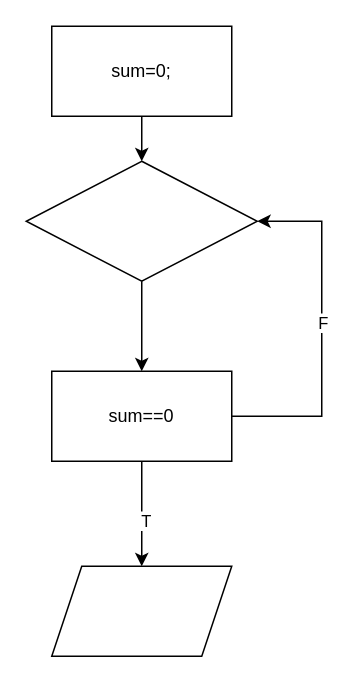
Some shapes in this 360 by 683 pixel diagram are drawn without their labels. The box of each missing label's shape, as (x1, y1, x2, y2) in pixels:
n입력 sum+=n: (25, 160, 257, 281)
sum 출력: (50, 565, 232, 656)
